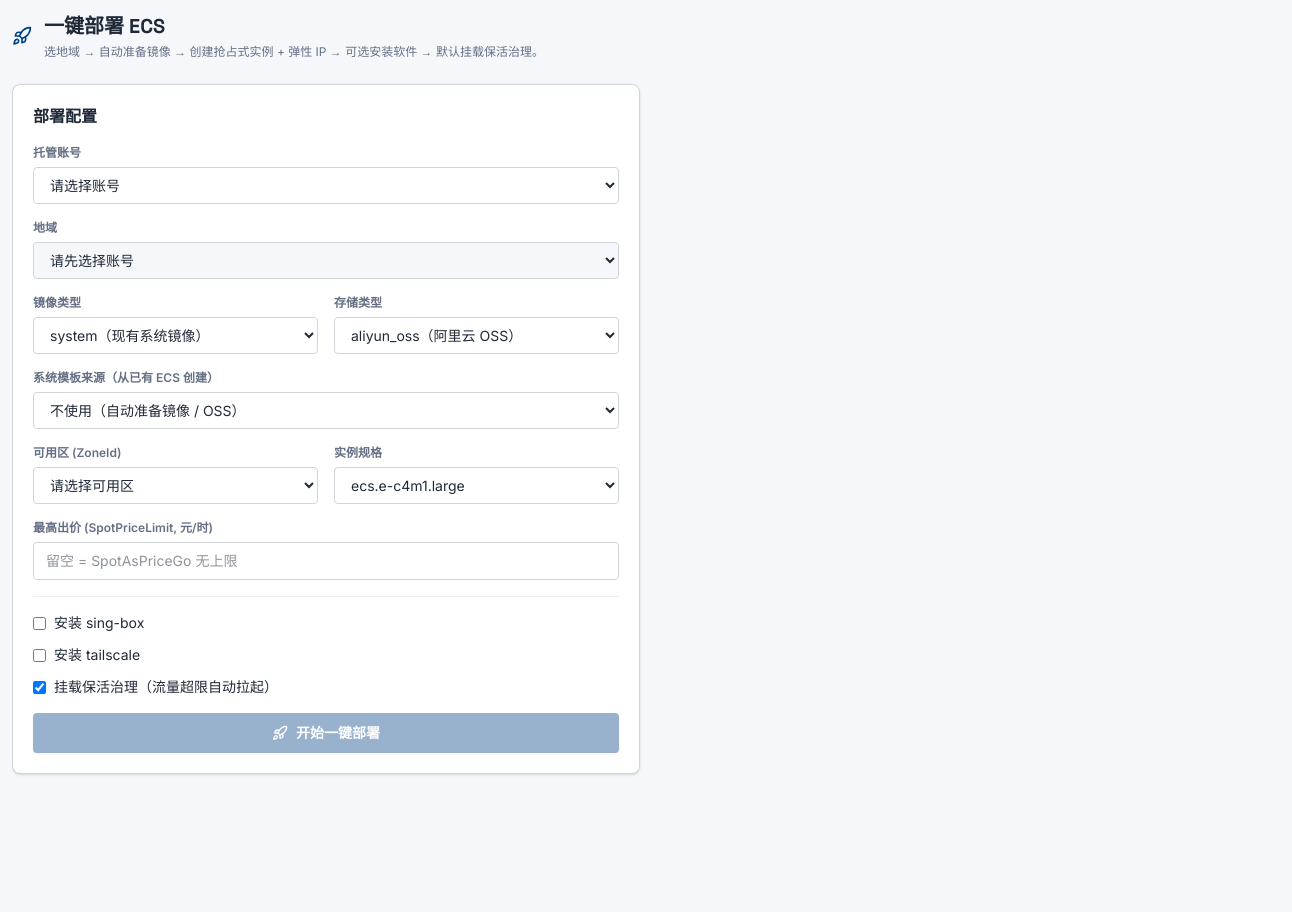
it: DeploymentPage form › renders the 7-step progress with mapped Chinese titles and per-step statuses
Select "Account A" in the dropdown labelled "托管账号" at (326, 186), box top-left (33, 167), bottom-right (619, 204)
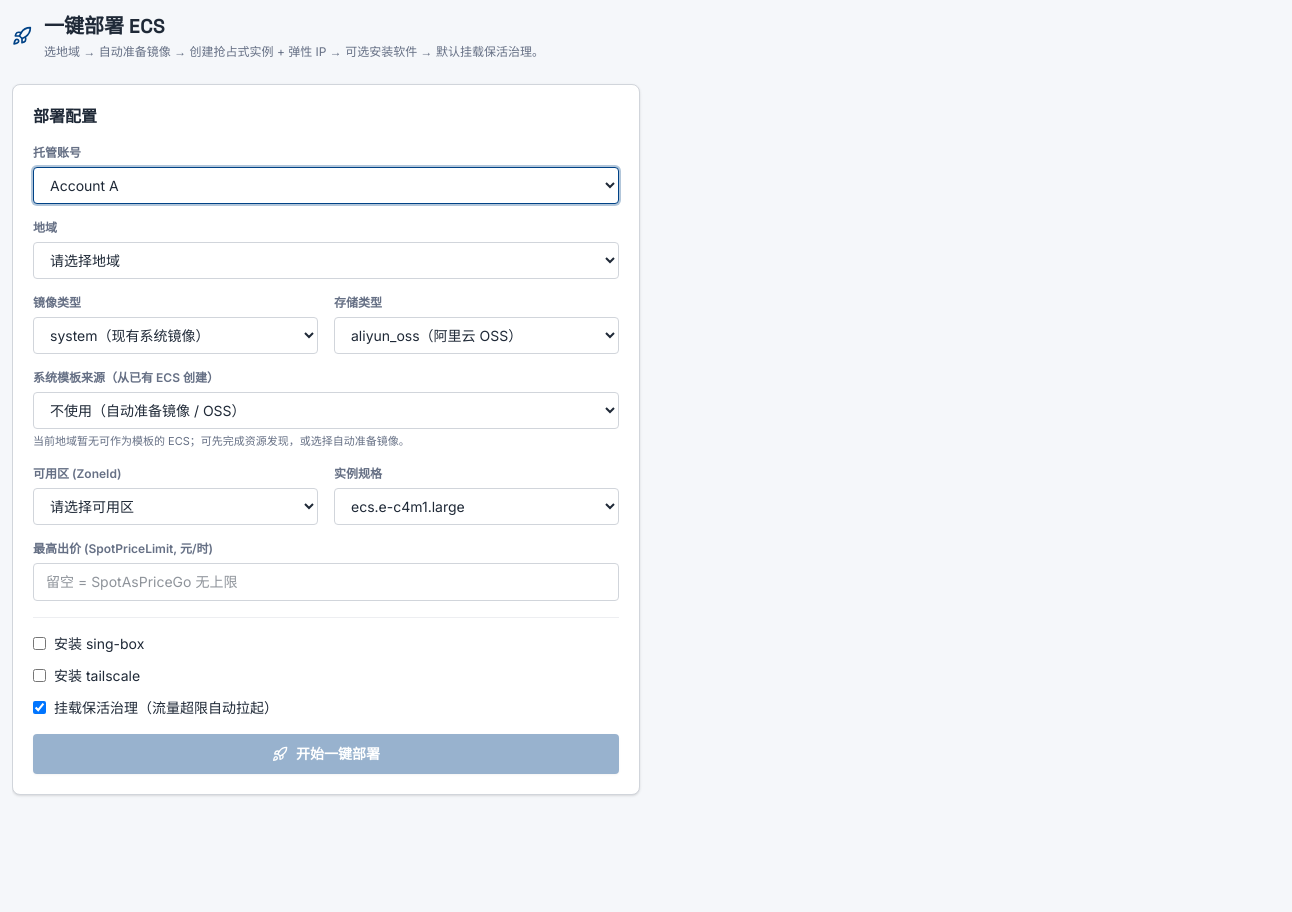
Select "美国 (硅谷) (us-west-1)" in the dropdown labelled "地域" at (326, 260), box top-left (33, 242), bottom-right (619, 279)
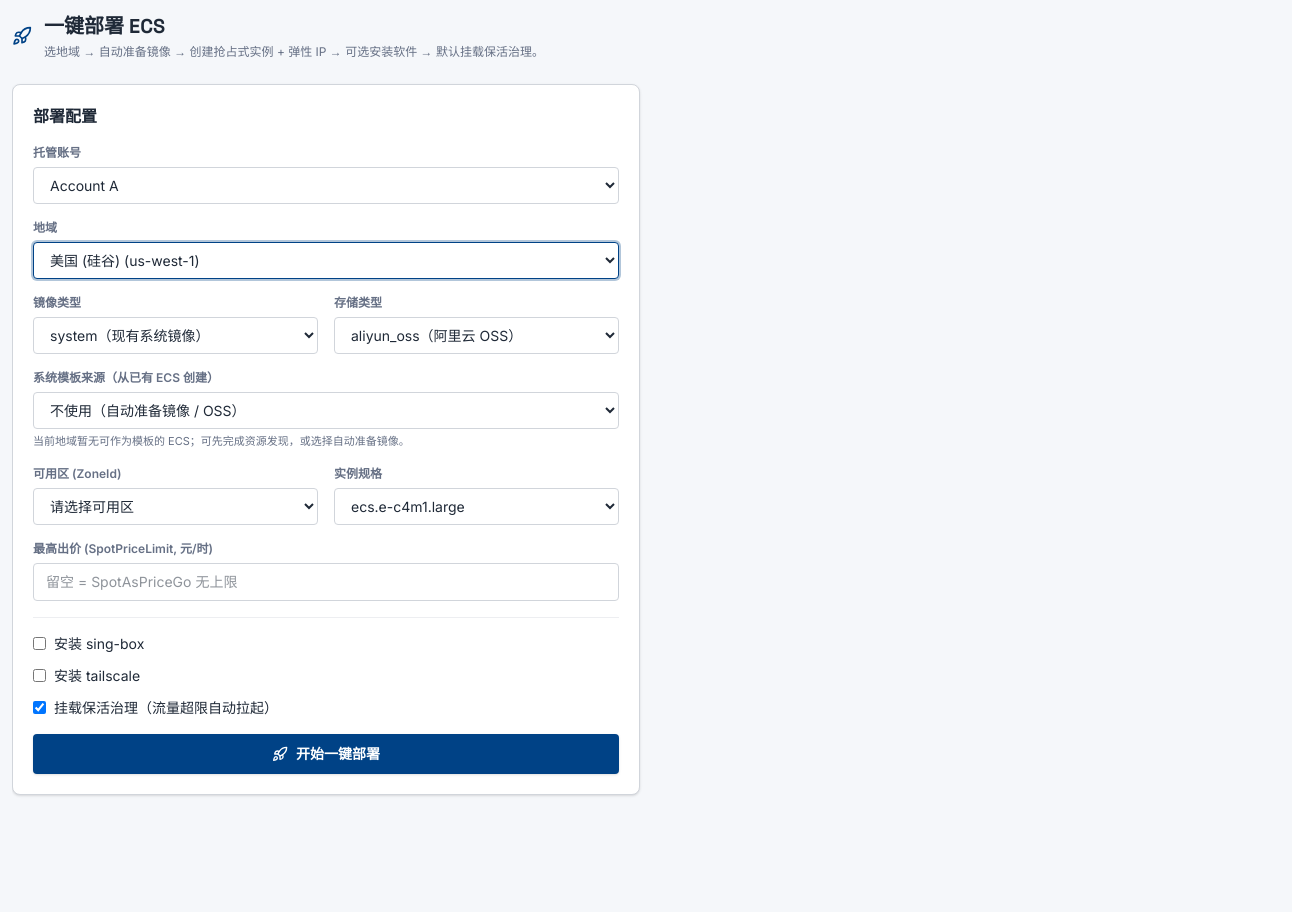
Click the button "开始一键部署" at (326, 754), box top-left (33, 734), bottom-right (619, 774)
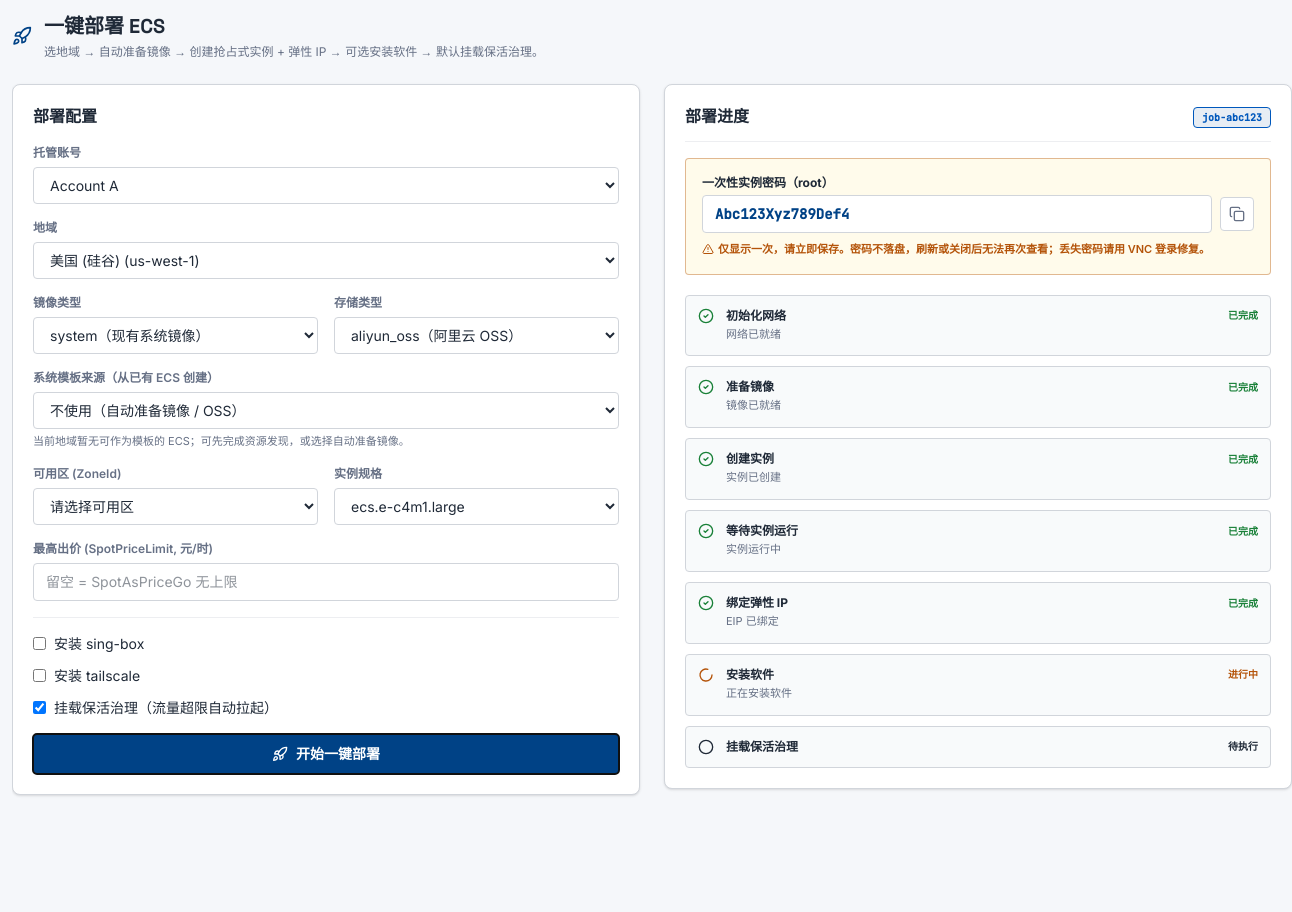
Now the text "初始化网络" is shown, box top-left (726, 308), bottom-right (786, 324)
Now the text "准备镜像" is shown, box top-left (726, 379), bottom-right (774, 395)
Now the text "创建实例" is shown, box top-left (726, 451), bottom-right (774, 467)
